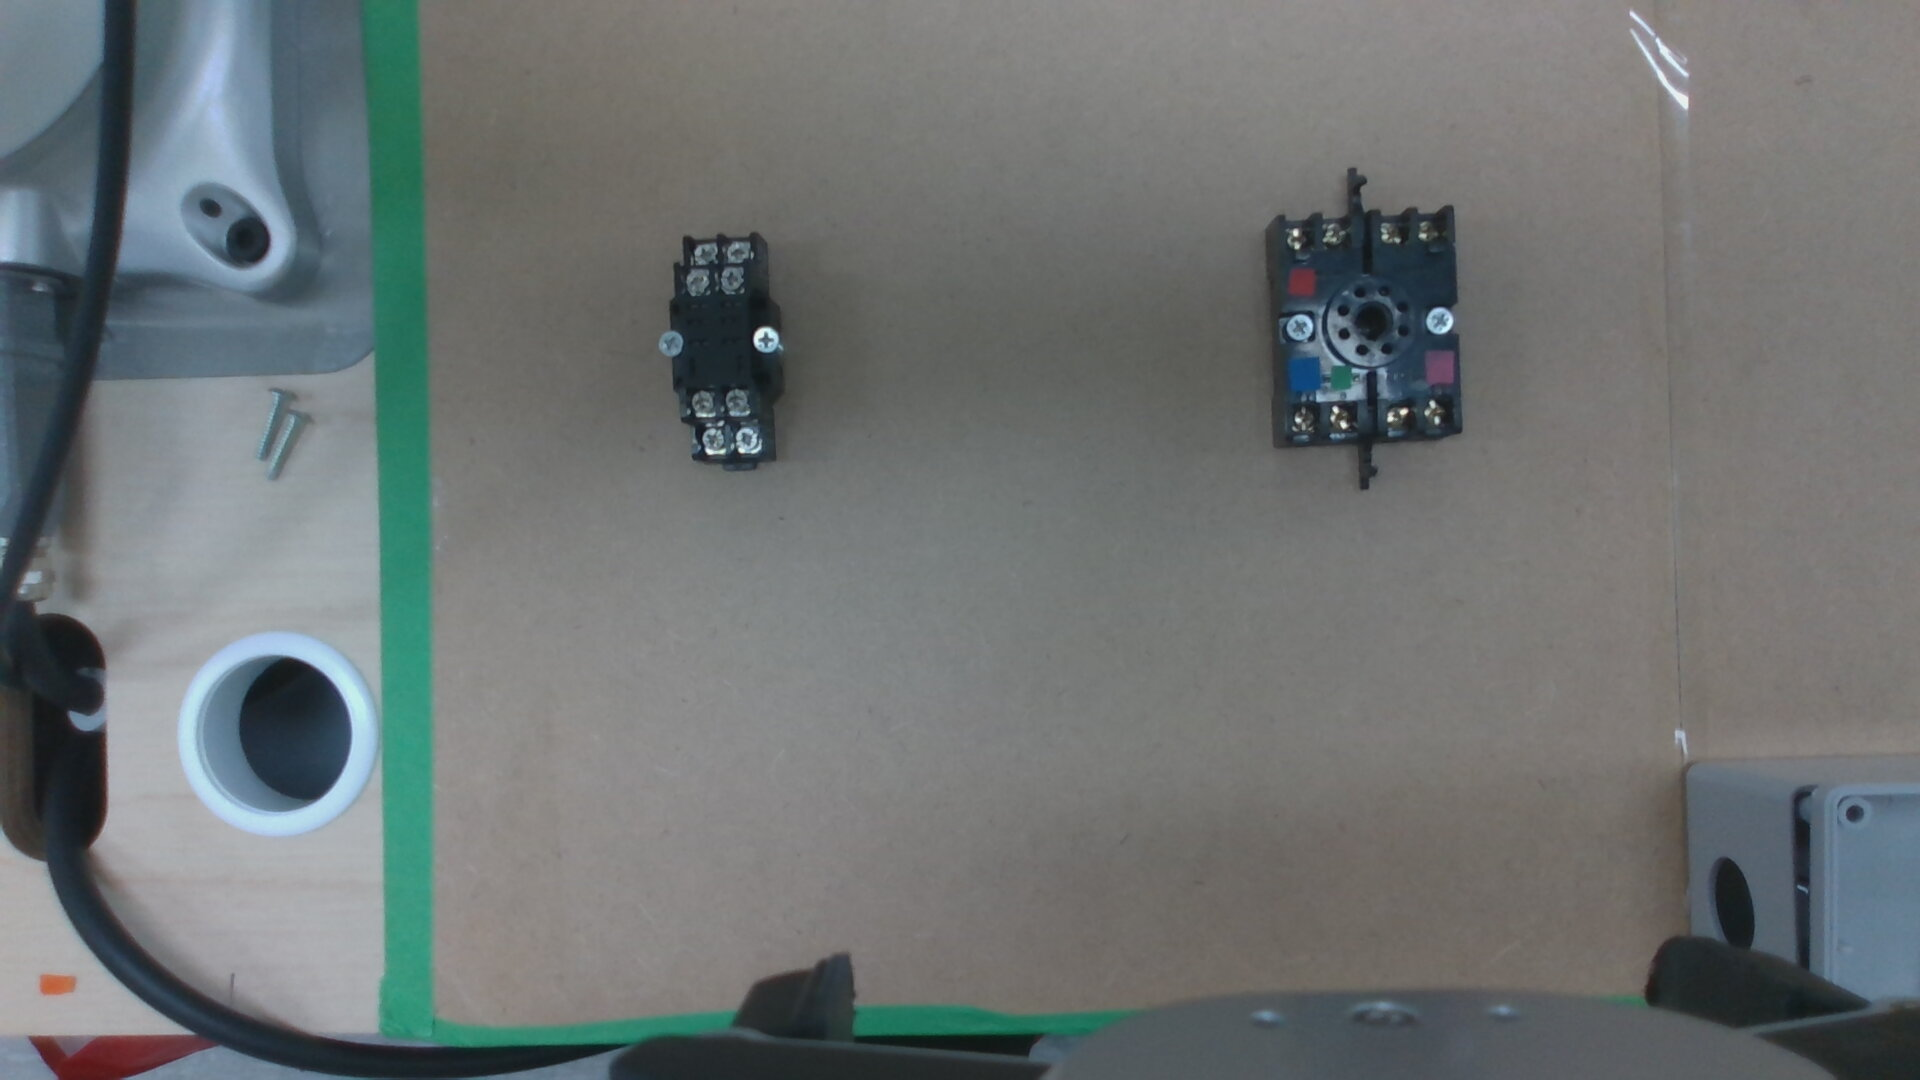relay 3: (724, 241, 746, 261)
relay 4: (690, 243, 713, 261)
relay 5: (732, 427, 760, 451)
relay 6: (699, 427, 723, 452)
relay 7: (723, 392, 748, 415)
relay 8: (688, 392, 713, 414)
